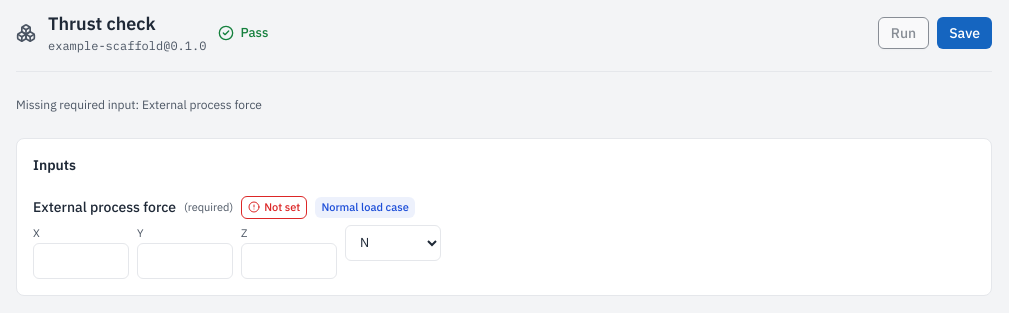
ModuleInputWorkspace › keeps Run disabled while a required vector field has an incomplete component
The width and height of the screenshot is (1009, 313).
Step 1. Type "10" into the number field named "External process force X (travel direction)" → (81, 261), box [33,243,129,279]
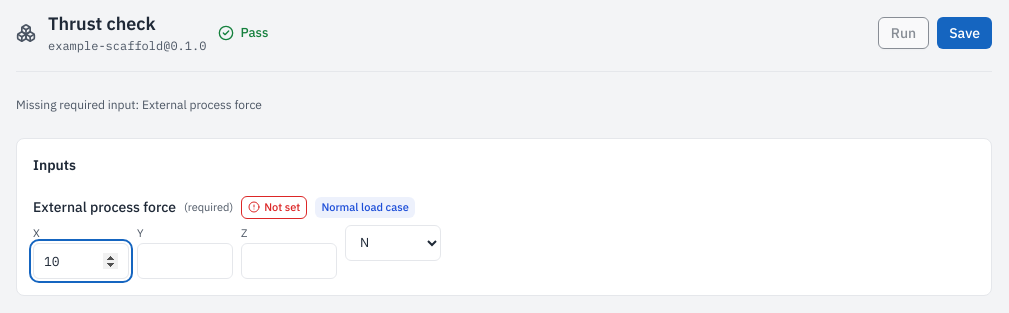
Step 2. Type "20" into the number field named "External process force Y (transverse)" → (185, 261), box [137,243,233,279]
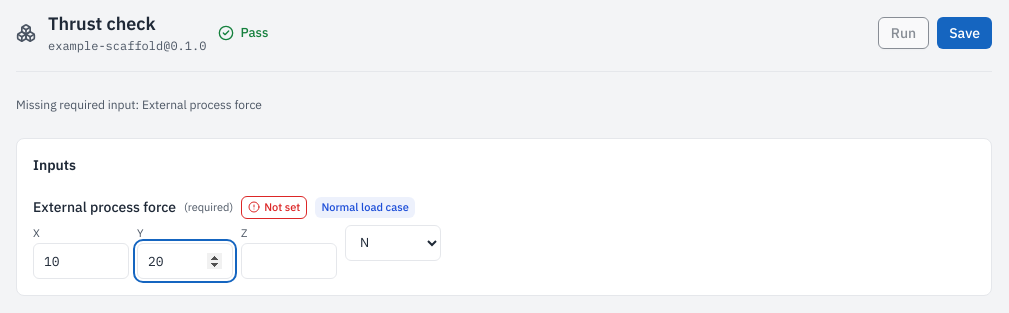
expect the button "Run" is disabled: met, box [878,16,929,48]
Step 3. Type "30" into the number field named "External process force Z" → (289, 261), box [241,243,337,279]
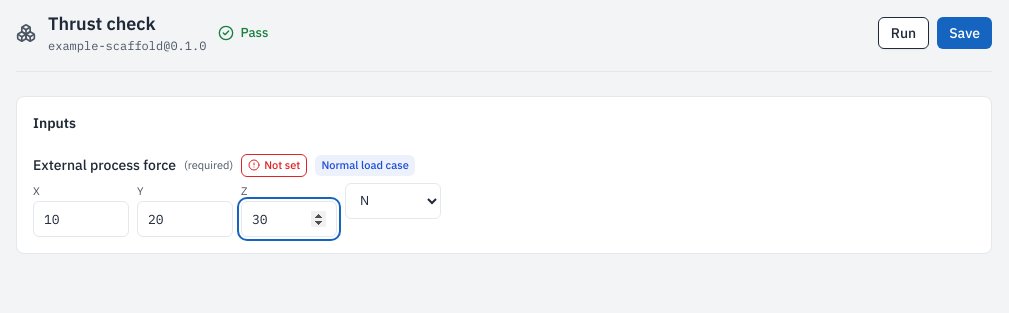
expect the button "Run" is enabled: met, box [878,16,929,48]
